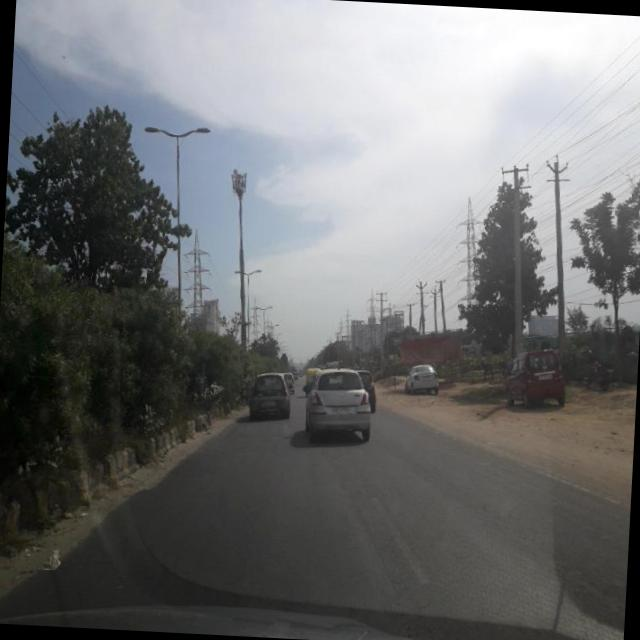crack: (81, 422, 632, 624)
pothole: (316, 442, 418, 618)
